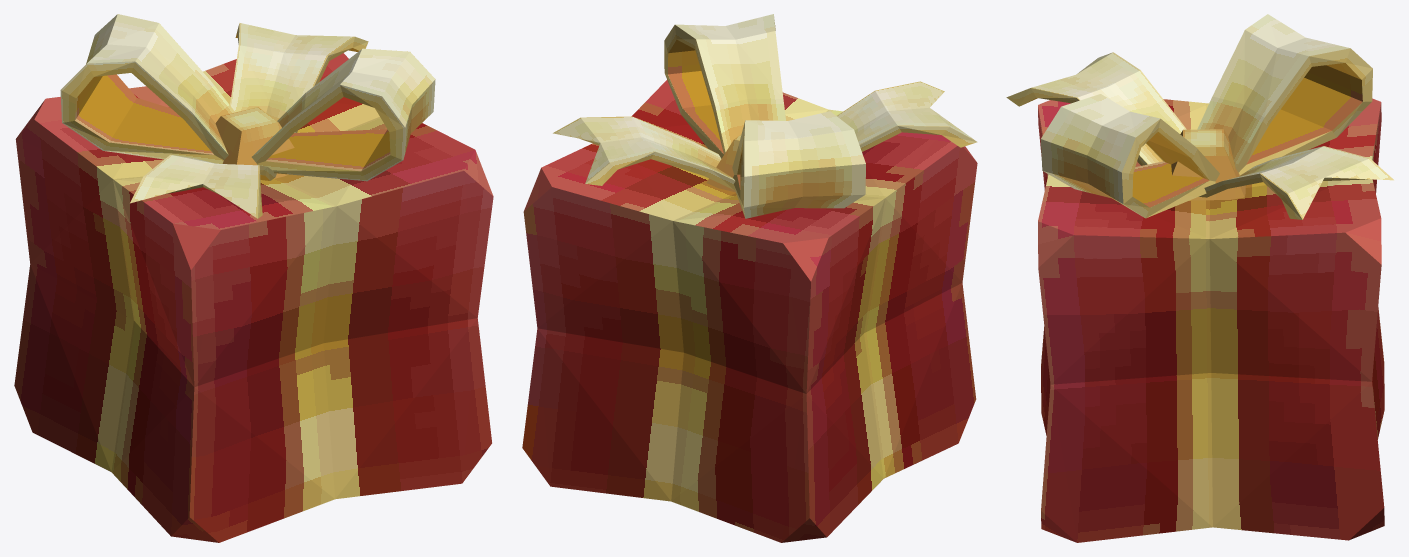
Rendered from Present.obj.
The picture shows the model from 3 angles, left to right: view 1: azimuth 30°, elevation 25°; view 2: azimuth 150°, elevation 25°; view 3: azimuth 270°, elevation 25°; orthographic projection. The views are drawn at different scales.
Visible parts, largest first — view 1: Inst3D18_RefRep.220; view 2: Inst3D18_RefRep.220; view 3: Inst3D18_RefRep.220.
Boxes of the visible parts, box(x1,y1,x2,y2) form: Inst3D18_RefRep.220: box(14, 14, 493, 542); Inst3D18_RefRep.220: box(522, 14, 977, 542); Inst3D18_RefRep.220: box(1006, 14, 1393, 542).
Bounding box in the file's own units: 3.18 × 3.55 × 3.18.
